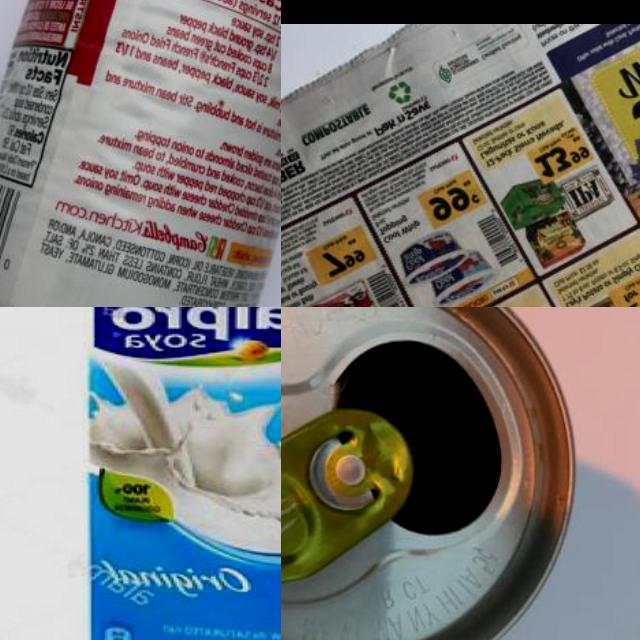aba de lata: (281, 409, 415, 583)
caixinha: (85, 307, 281, 640)
lata: (281, 307, 583, 640), (0, 0, 281, 307)
papel: (281, 24, 640, 307)
